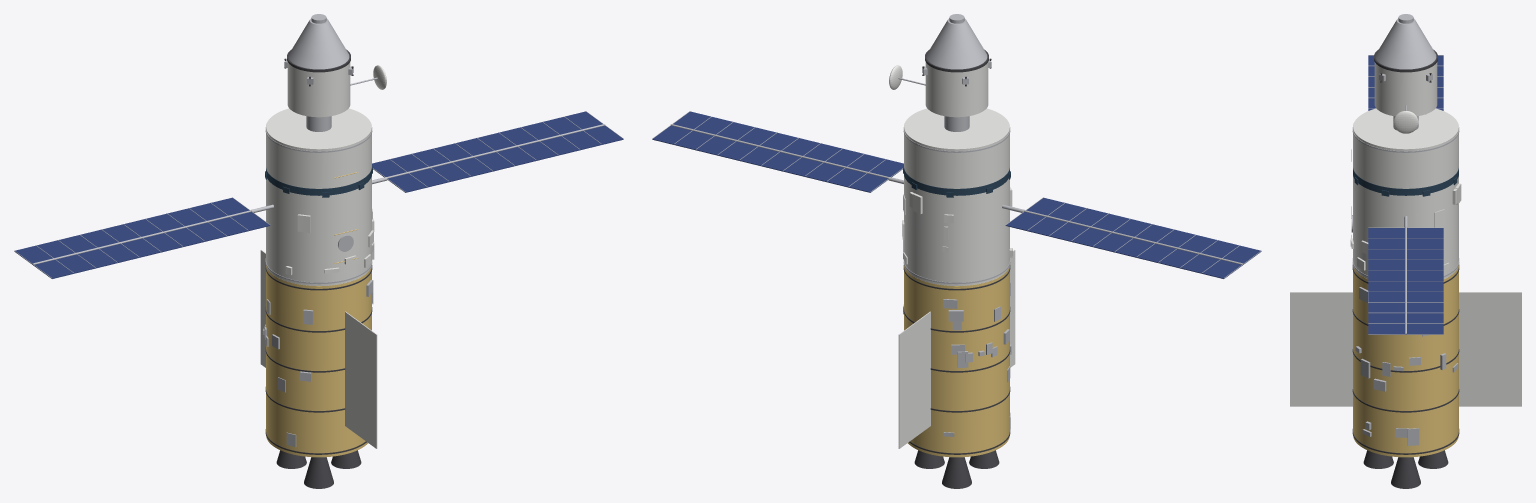
The model's file is nave_transito.fbx.
3 renders of one model, left to right at view 1: azimuth 30°, elevation 25°; view 2: azimuth 150°, elevation 25°; view 3: azimuth 270°, elevation 25°, orthographic.
Visible parts, largest first — view 1: Pintura_Blanca, Celda_Solar, Aislante_MLI, Metal_Gris, Metal_Oscuro, Vidrio; view 2: Pintura_Blanca, Celda_Solar, Aislante_MLI, Metal_Gris, Metal_Oscuro, Vidrio; view 3: Pintura_Blanca, Aislante_MLI, Celda_Solar, Metal_Gris, Metal_Oscuro, Vidrio.
Part boxes in pixels (left/top/right/bottom): Pintura_Blanca: left=260, top=62, right=386, bottom=448; Celda_Solar: left=14, top=111, right=623, bottom=278; Aislante_MLI: left=266, top=172, right=371, bottom=457; Metal_Gris: left=14, top=14, right=623, bottom=447; Metal_Oscuro: left=265, top=49, right=372, bottom=488; Vidrio: left=265, top=166, right=372, bottom=197; Pintura_Blanca: left=889, top=62, right=1015, bottom=448; Celda_Solar: left=652, top=111, right=1261, bottom=278; Aislante_MLI: left=904, top=265, right=1009, bottom=457; Metal_Gris: left=652, top=14, right=1261, bottom=436; Metal_Oscuro: left=903, top=49, right=1010, bottom=488; Vidrio: left=903, top=166, right=1010, bottom=197; Pintura_Blanca: left=1290, top=62, right=1521, bottom=406; Aislante_MLI: left=1351, top=149, right=1458, bottom=457; Celda_Solar: left=1368, top=55, right=1443, bottom=334; Metal_Gris: left=1351, top=14, right=1459, bottom=445; Metal_Oscuro: left=1352, top=49, right=1459, bottom=488; Vidrio: left=1353, top=168, right=1458, bottom=196.
Bounding box in the file's own units: 52.44 × 39.6 × 18.4.
